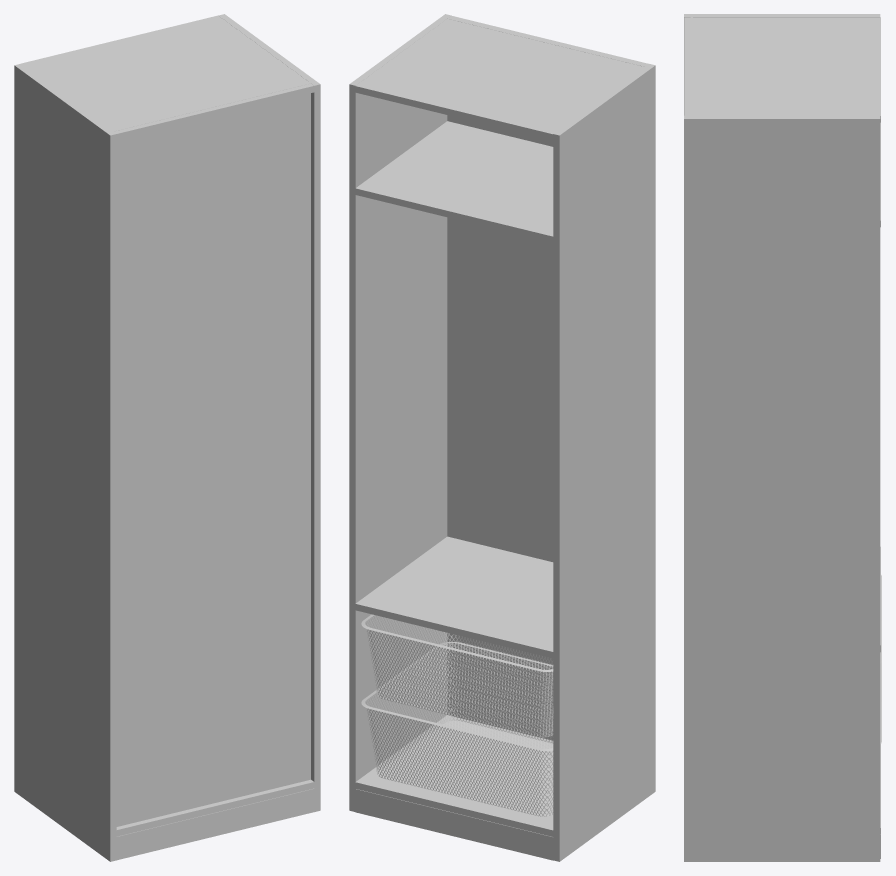
The model's file is 01685_Bundle_2.gltf.
3 views of the same model, side by side, from view 1: azimuth 30°, elevation 25°; view 2: azimuth 150°, elevation 25°; view 3: azimuth 270°, elevation 25° (orthographic). The views are drawn at different scales.
Visible parts, largest first — view 1: Wardrobe Base; view 2: Wardrobe Base, Shelf (×2), Wire Basket_1-White Mesh, Wire Basket_2-White Mesh, Wire Basket_1-Gloss White, Wire Basket_2-Gloss White; view 3: Wardrobe Base.
Part boxes in pixels (<box>): Wardrobe Base: <box>14,14,320,861</box>; Wardrobe Base: <box>349,14,655,861</box>; Shelf (×2): <box>355,121,553,658</box>; Wire Basket_1-White Mesh: <box>365,643,553,816</box>; Wire Basket_2-White Mesh: <box>365,615,553,737</box>; Wire Basket_1-Gloss White: <box>361,642,553,750</box>; Wire Basket_2-Gloss White: <box>361,614,553,671</box>; Wardrobe Base: <box>684,14,880,861</box>.
Bounding box in the file's own units: 0.6059 × 2 × 0.4828.
3 materials, 1 textured.
